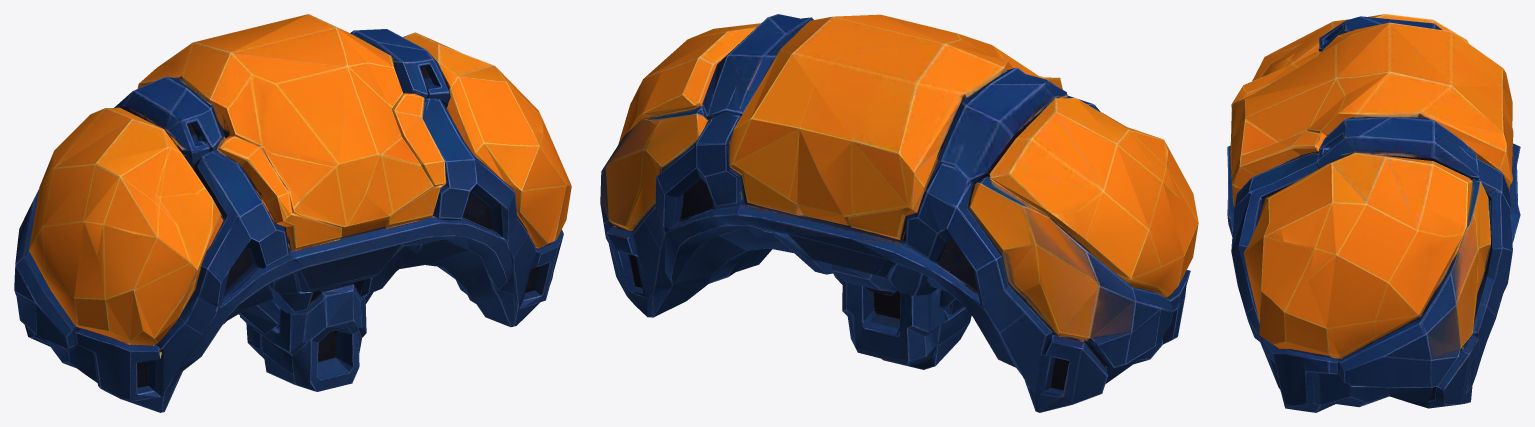
3 views of the same model, side by side, from view 1: azimuth 30°, elevation 25°; view 2: azimuth 150°, elevation 25°; view 3: azimuth 270°, elevation 25° (orthographic). The views are drawn at different scales.
Visible parts, largest first — view 1: output_unwrapped; view 2: output_unwrapped; view 3: output_unwrapped.
Part boxes in pixels (box(x1,y1,x2,y2)): output_unwrapped: box(14, 14, 571, 412); output_unwrapped: box(600, 14, 1198, 412); output_unwrapped: box(1227, 14, 1520, 412).
Size of the model in its own units: 1.9 by 1.17 by 1.01.
Materials: 1 (1 with a texture image).
